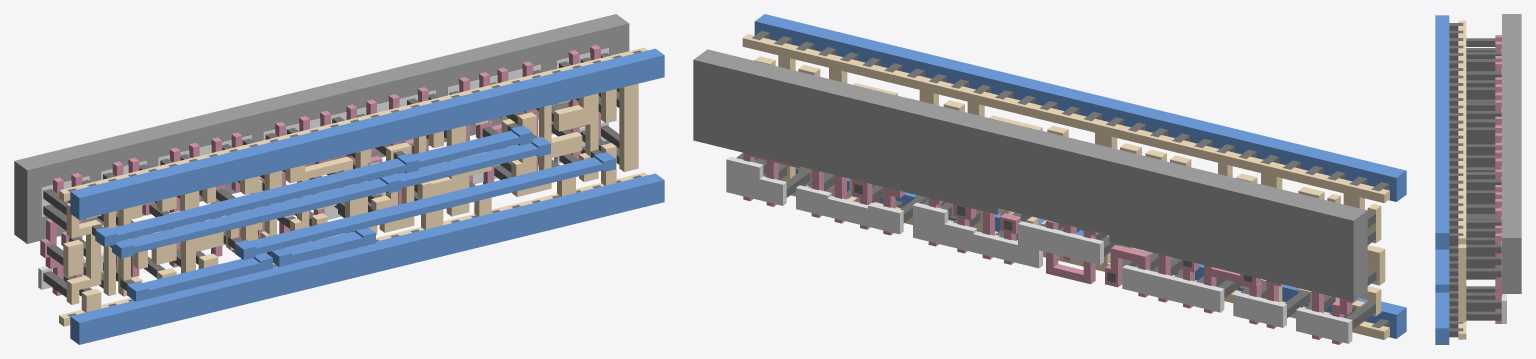
The model's file is sky130_fd_sc_hd__sedfxtp_1.gds.gltf.
The picture shows the model from 3 angles, left to right: view 1: azimuth 30°, elevation 25°; view 2: azimuth 150°, elevation 25°; view 3: azimuth 270°, elevation 25°; orthographic projection. The views are drawn at different scales.
Parts seen in each view (by area): view 1: sky130_fd_sc_hd__sedfxtp_1_met1, sky130_fd_sc_hd__sedfxtp_1_li1, sky130_fd_sc_hd__sedfxtp_1_nwell, sky130_fd_sc_hd__sedfxtp_1_poly, sky130_fd_sc_hd__sedfxtp_1_licon, sky130_fd_sc_hd__sedfxtp_1_diff, sky130_fd_sc_hd__sedfxtp_1_mcon; view 2: sky130_fd_sc_hd__sedfxtp_1_nwell, sky130_fd_sc_hd__sedfxtp_1_li1, sky130_fd_sc_hd__sedfxtp_1_met1, sky130_fd_sc_hd__sedfxtp_1_diff, sky130_fd_sc_hd__sedfxtp_1_poly, sky130_fd_sc_hd__sedfxtp_1_licon, sky130_fd_sc_hd__sedfxtp_1_mcon; view 3: sky130_fd_sc_hd__sedfxtp_1_licon, sky130_fd_sc_hd__sedfxtp_1_nwell, sky130_fd_sc_hd__sedfxtp_1_met1, sky130_fd_sc_hd__sedfxtp_1_mcon, sky130_fd_sc_hd__sedfxtp_1_li1, sky130_fd_sc_hd__sedfxtp_1_poly, sky130_fd_sc_hd__sedfxtp_1_diff.
Part boxes in pixels (<box>): sky130_fd_sc_hd__sedfxtp_1_met1: <box>70,48,664,344</box>; sky130_fd_sc_hd__sedfxtp_1_li1: <box>59,47,647,326</box>; sky130_fd_sc_hd__sedfxtp_1_nwell: <box>14,14,629,243</box>; sky130_fd_sc_hd__sedfxtp_1_poly: <box>40,45,600,295</box>; sky130_fd_sc_hd__sedfxtp_1_licon: <box>43,53,619,297</box>; sky130_fd_sc_hd__sedfxtp_1_diff: <box>38,48,608,289</box>; sky130_fd_sc_hd__sedfxtp_1_mcon: <box>67,50,641,316</box>; sky130_fd_sc_hd__sedfxtp_1_nwell: <box>693,49,1367,301</box>; sky130_fd_sc_hd__sedfxtp_1_li1: <box>742,34,1389,339</box>; sky130_fd_sc_hd__sedfxtp_1_met1: <box>754,14,1406,338</box>; sky130_fd_sc_hd__sedfxtp_1_diff: <box>726,156,1352,343</box>; sky130_fd_sc_hd__sedfxtp_1_poly: <box>743,153,1357,344</box>; sky130_fd_sc_hd__sedfxtp_1_licon: <box>736,72,1376,329</box>; sky130_fd_sc_hd__sedfxtp_1_mcon: <box>752,31,1389,328</box>; sky130_fd_sc_hd__sedfxtp_1_licon: <box>1466,38,1501,320</box>; sky130_fd_sc_hd__sedfxtp_1_nwell: <box>1502,14,1521,293</box>; sky130_fd_sc_hd__sedfxtp_1_met1: <box>1435,15,1449,344</box>; sky130_fd_sc_hd__sedfxtp_1_mcon: <box>1449,23,1463,337</box>; sky130_fd_sc_hd__sedfxtp_1_li1: <box>1458,20,1466,339</box>; sky130_fd_sc_hd__sedfxtp_1_poly: <box>1495,35,1502,323</box>; sky130_fd_sc_hd__sedfxtp_1_diff: <box>1501,49,1506,323</box>.
Size of the model in its own units: 13.72 by 3.2 by 2.24.
